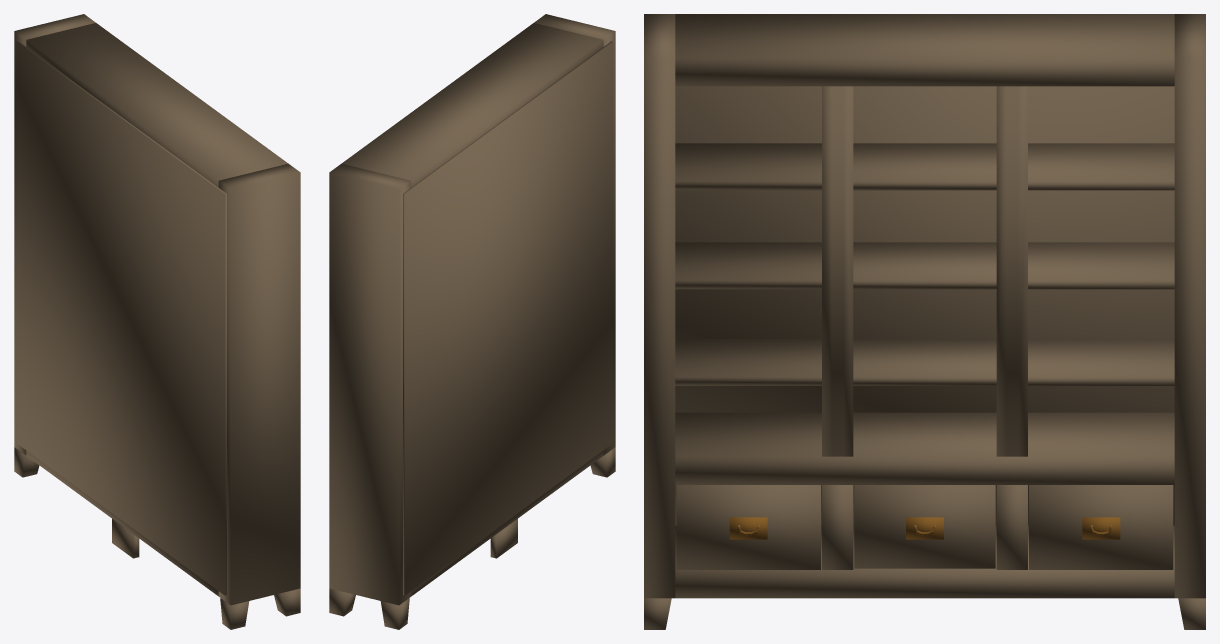
Rendered from bookshelf_lowpoly.fbx.
3 renders of one model, left to right at view 1: azimuth 30°, elevation 25°; view 2: azimuth 150°, elevation 25°; view 3: azimuth 270°, elevation 25°, orthographic. The views are drawn at different scales.
Parts seen in each view (by area): view 1: Cube.006; view 2: Cube.006; view 3: Cube.006.
Part boxes in pixels (bbox=[...]): Cube.006: bbox=[14, 14, 300, 629]; Cube.006: bbox=[329, 14, 615, 629]; Cube.006: bbox=[644, 14, 1205, 629].
Size of the model in its own units: 35.61 by 202 by 180.
